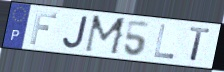5: (122, 19, 150, 58)
F: (29, 10, 59, 46)
J: (61, 15, 90, 50)
L: (152, 23, 176, 61)
M: (82, 14, 129, 57)
T: (189, 26, 212, 64)
